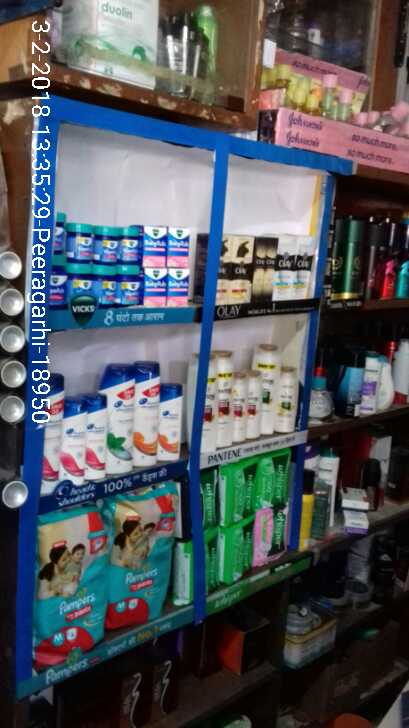vicks: (52, 211, 193, 313)
